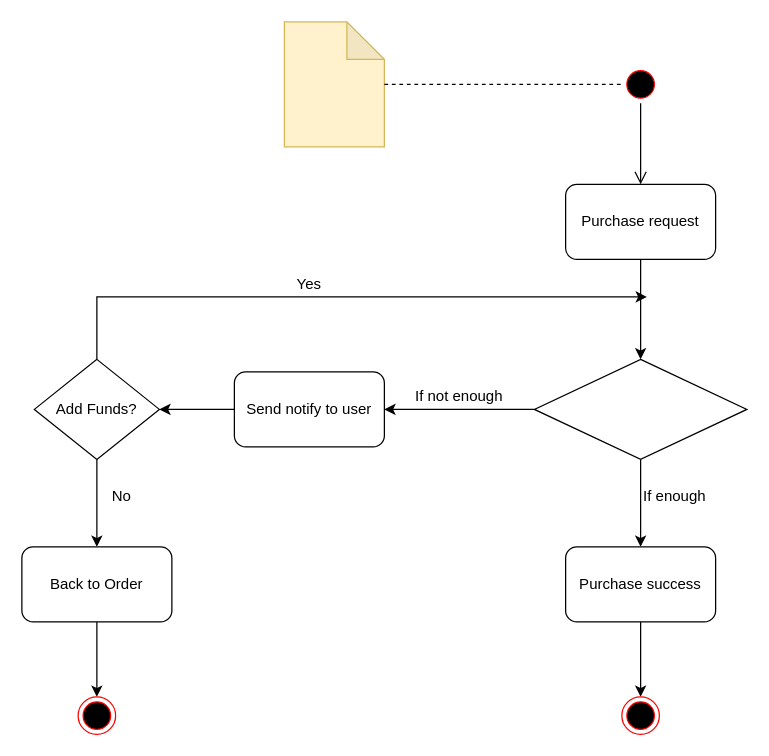
The diagram is 769 pixels wide and 756 high, and some of its shapes have lost their labels. Each missing label, with the centre of its shape:
"Check account balance" goes at pixel 640 408.
"user have at least 1 order" goes at pixel 333 84.
